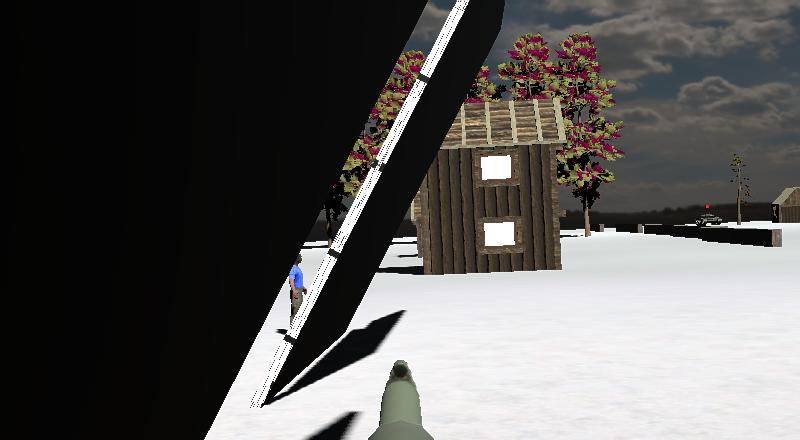House: (402, 77, 583, 298), (764, 178, 800, 234)
Human: (279, 245, 311, 329)
